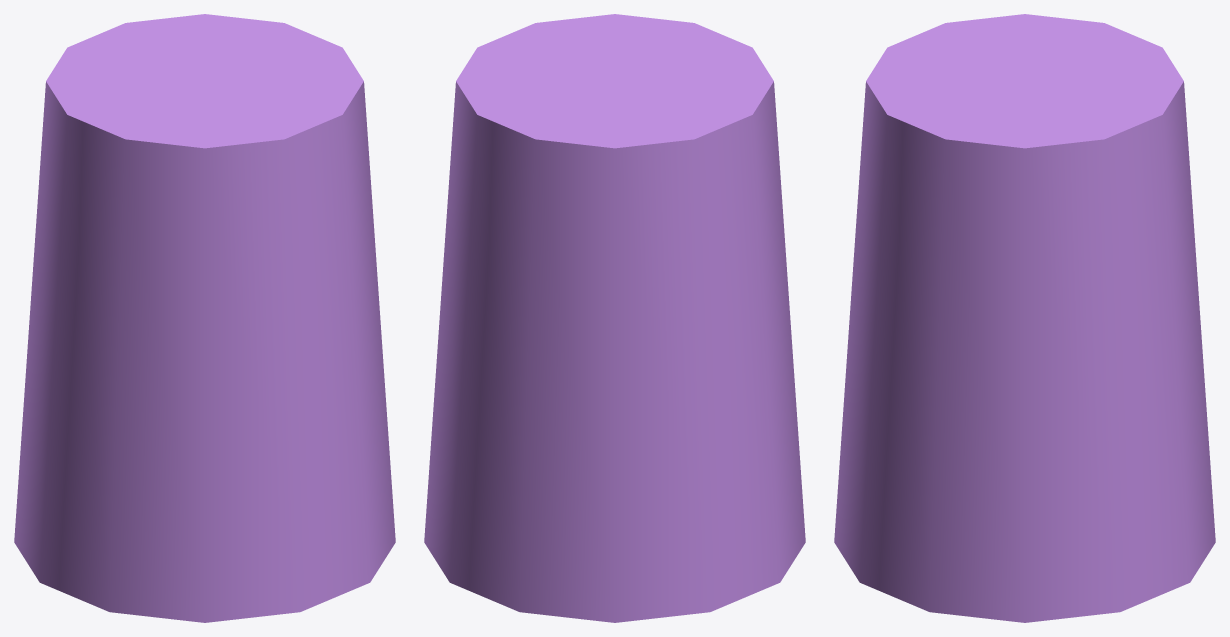
Rendered from gas_detector.glb.
The picture shows the model from 3 angles, left to right: view 1: azimuth 30°, elevation 25°; view 2: azimuth 150°, elevation 25°; view 3: azimuth 270°, elevation 25°; orthographic projection.
Parts seen in each view (by area): view 1: gas_detector-node; view 2: gas_detector-node; view 3: gas_detector-node.
Part boxes in pixels (<box>): gas_detector-node: <box>14,14,395,622</box>; gas_detector-node: <box>424,14,805,622</box>; gas_detector-node: <box>834,14,1215,622</box>.
Bounding box in the file's own units: 0.6 × 0.8 × 0.6.
